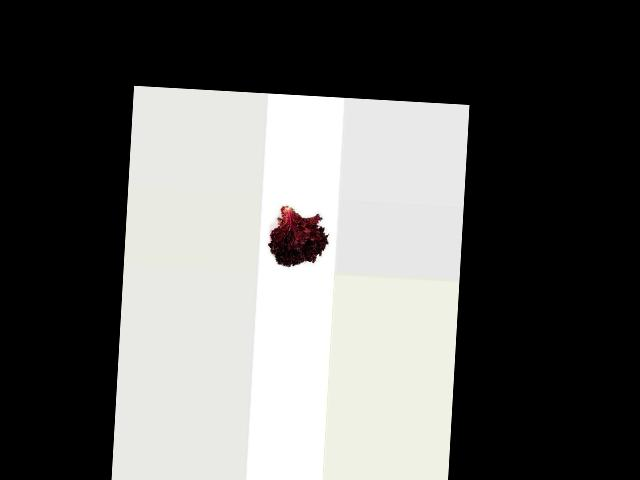lettuce: (269, 199, 332, 272)
